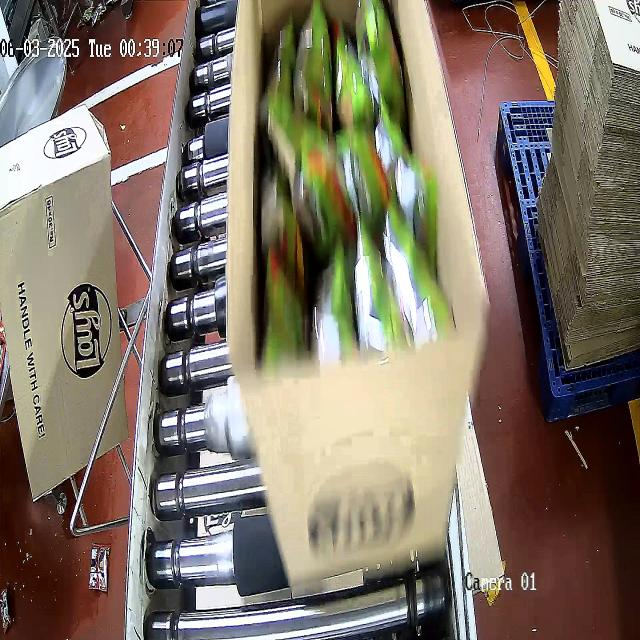YOGURT_HERB: (252, 10, 442, 355)
